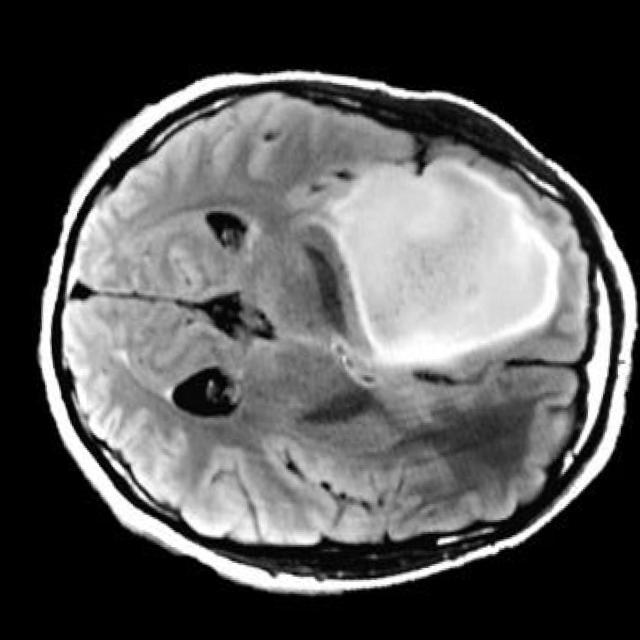Tumor: (325, 152, 558, 365)
